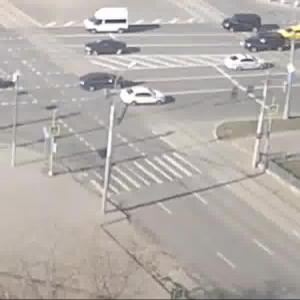car: (108, 84, 178, 108), (81, 8, 127, 38), (219, 13, 268, 34), (81, 71, 131, 91), (226, 51, 271, 71), (246, 34, 287, 53), (90, 38, 122, 59), (278, 29, 300, 39)
